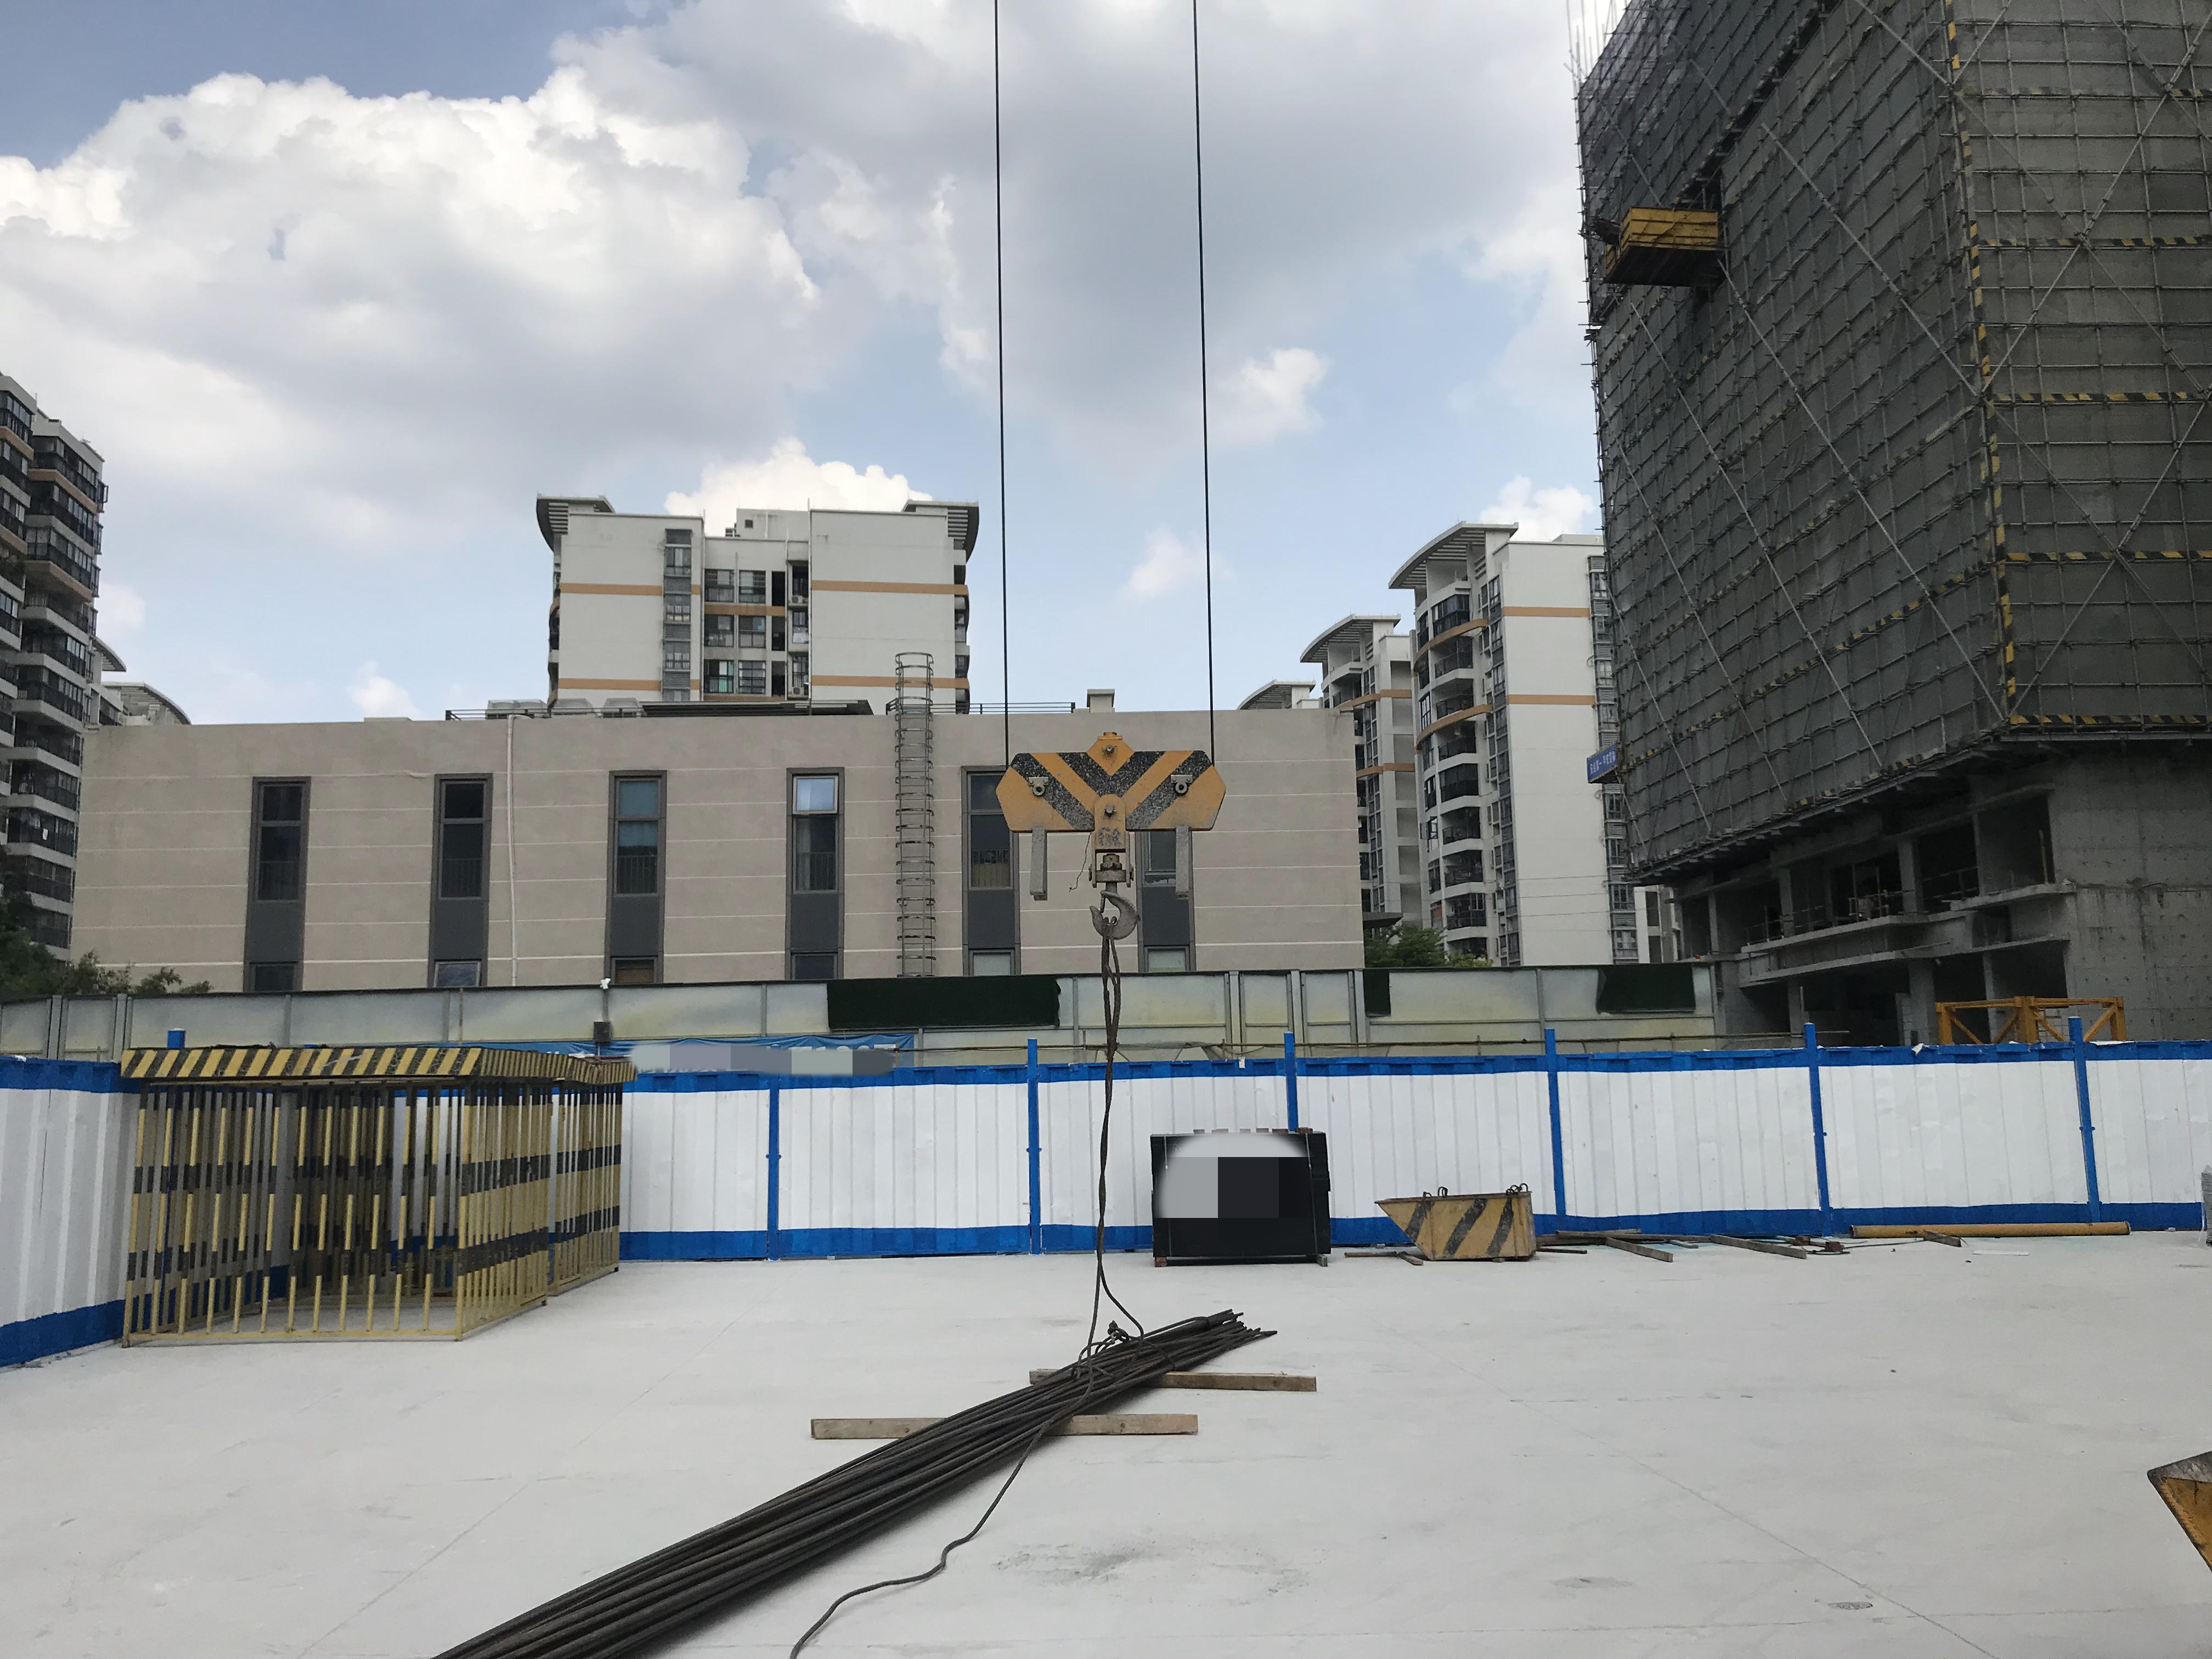hook: (988, 721, 1247, 955)
hopper: (1372, 1180, 1540, 1263)
rebar: (441, 1305, 1275, 1659)
